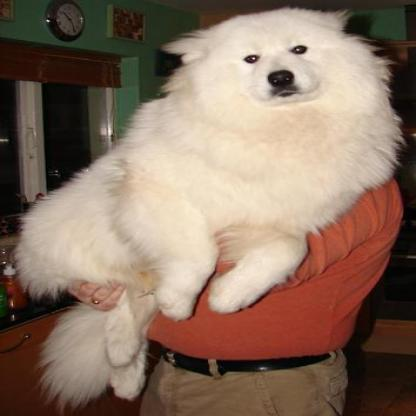Samoyed: (7, 4, 405, 414)
